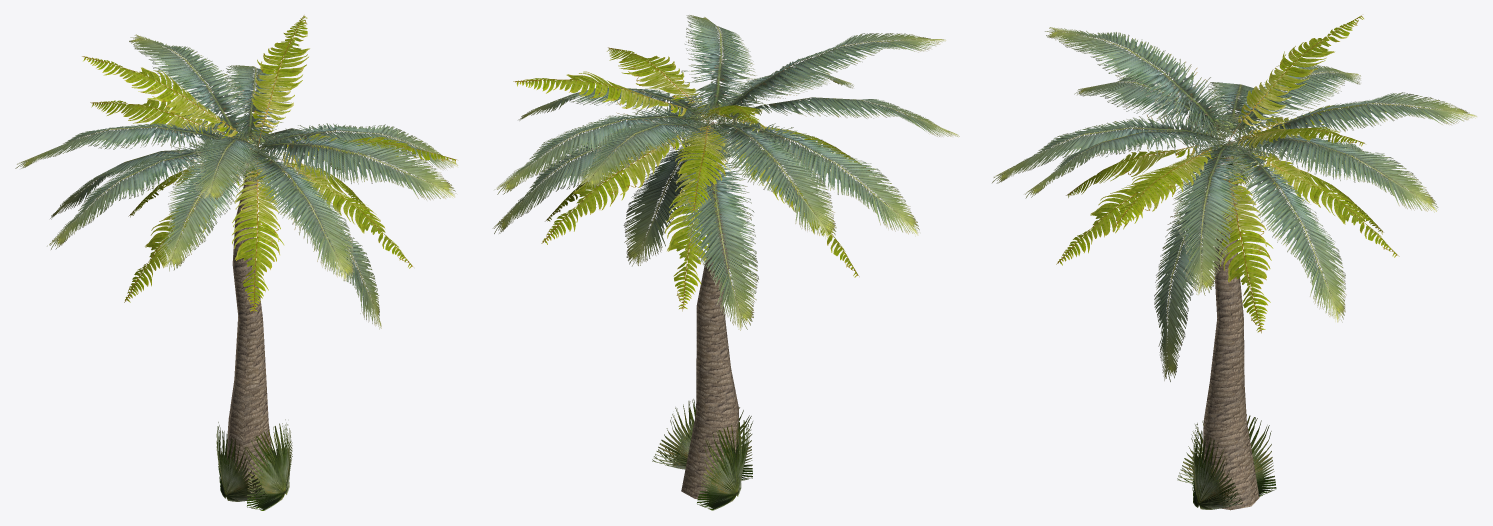
Rendered from PalmTree.fbx.
The picture shows the model from 3 angles, left to right: view 1: azimuth 30°, elevation 25°; view 2: azimuth 150°, elevation 25°; view 3: azimuth 270°, elevation 25°; orthographic projection. The views are drawn at different scales.
Parts seen in each view (by area): view 1: polySurface31; view 2: polySurface31; view 3: polySurface31.
Part boxes in pixels (left/top/right/bottom): polySurface31: left=15, top=15, right=457, bottom=510; polySurface31: left=492, top=15, right=959, bottom=510; polySurface31: left=992, top=15, right=1476, bottom=510.
Size of the model in its own units: 513 by 526 by 530.
